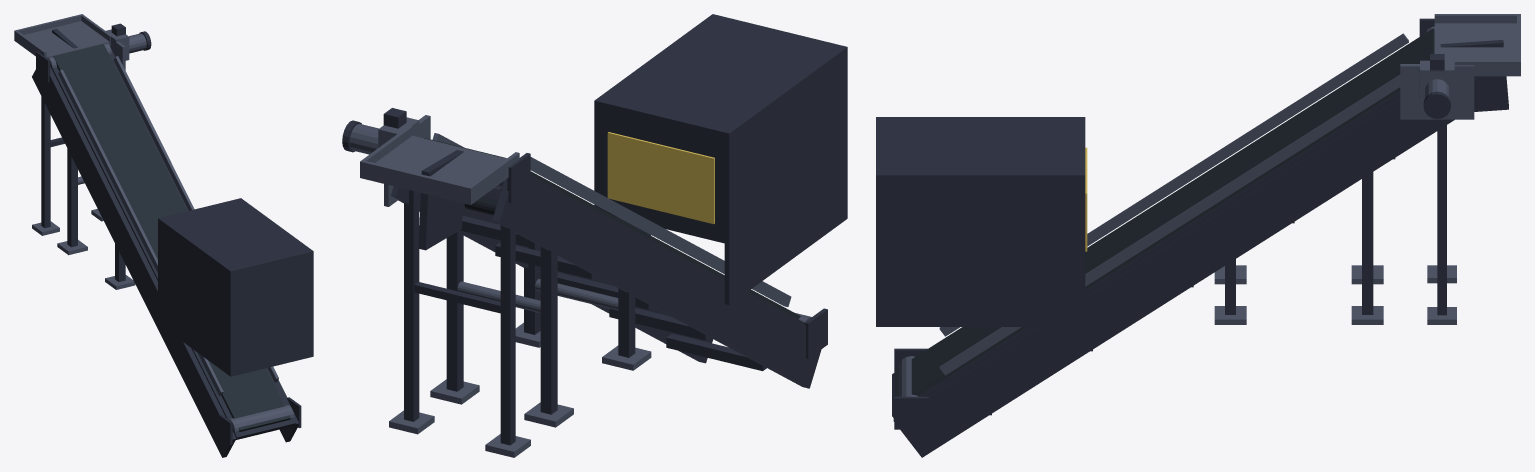
Rendered from conveyor.glb.
3 views of the same model, side by side, from view 1: azimuth 30°, elevation 25°; view 2: azimuth 150°, elevation 25°; view 3: azimuth 270°, elevation 25° (orthographic). The views are drawn at different scales.
Visible parts, largest first — view 1: conveyor-frame, conveyor-belt, conveyor-steel; view 2: conveyor-frame, conveyor-steel, conveyor-hazard, conveyor-belt; view 3: conveyor-frame, conveyor-steel, conveyor-belt.
Part boxes in pixels (x1,y1,x2,y2): conveyor-frame: (32,23,313,457); conveyor-belt: (53,44,290,431); conveyor-steel: (14,14,294,433); conveyor-frame: (342,14,847,445); conveyor-steel: (349,115,811,457); conveyor-hazard: (607,132,714,224); conveyor-belt: (424,138,800,318); conveyor-frame: (876,18,1508,457); conveyor-steel: (898,14,1520,396); conveyor-belt: (895,28,1434,396).
Size of the model in its own units: 0.7475 by 1.82 by 2.62.
